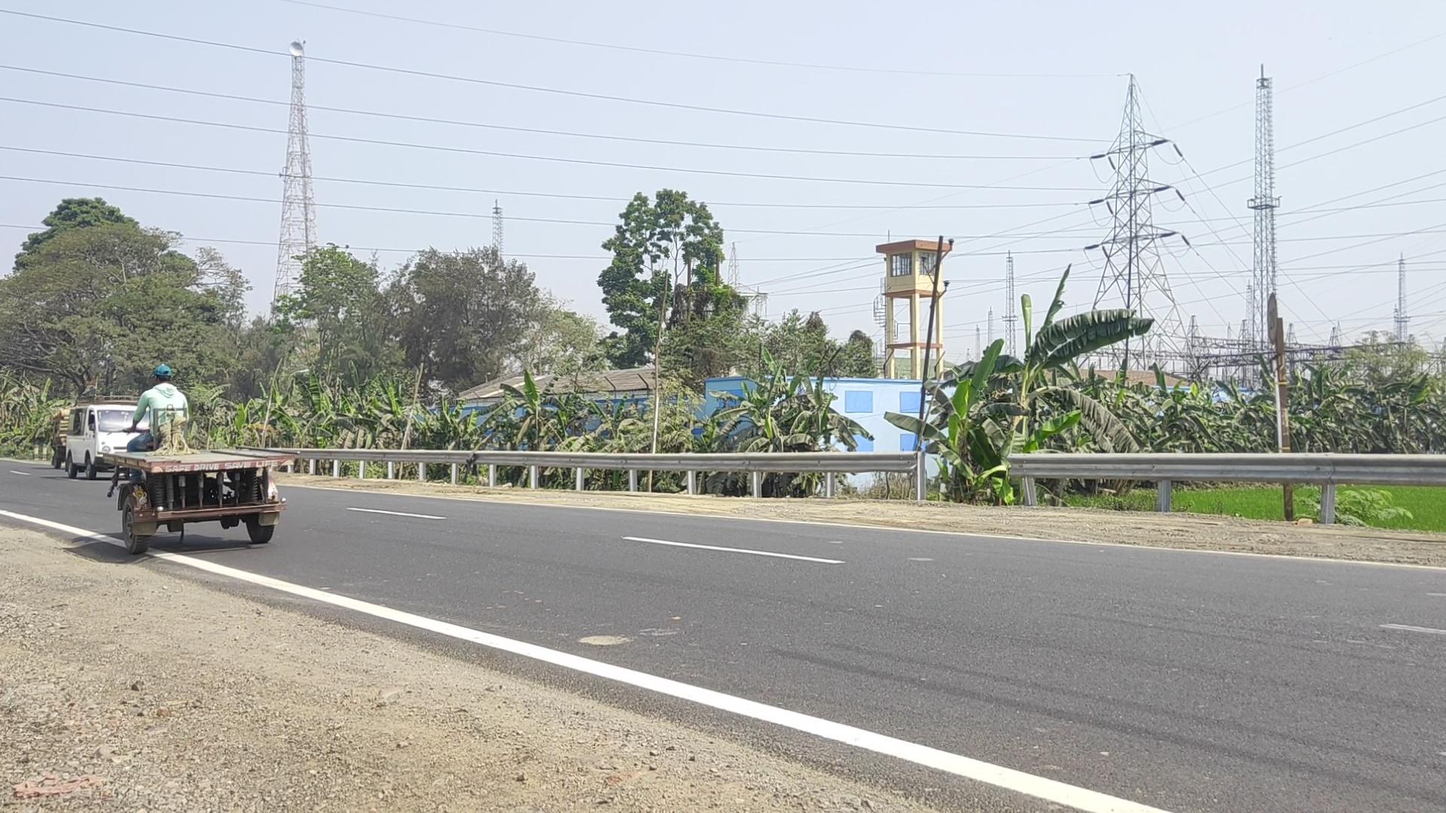van: (64, 396, 162, 480)
